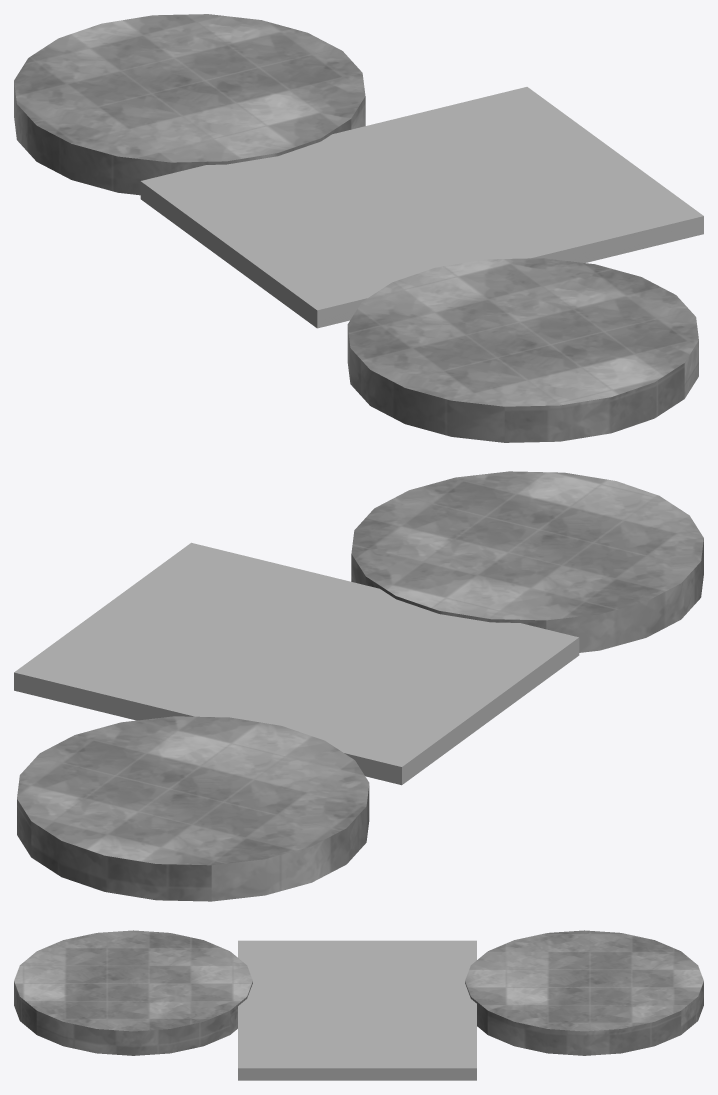
Rendered from Tokyo tower Bridge.fbx.
3 views of the same model, one above another, from view 1: azimuth 30°, elevation 25°; view 2: azimuth 150°, elevation 25°; view 3: azimuth 270°, elevation 25° (orthographic). The views are drawn at different scales.
Parts seen in each view (by area): view 1: bridge; view 2: bridge; view 3: bridge.
Boxes of the visible parts, x1,y1,x2,y2 form: bridge: [14, 14, 703, 442]; bridge: [14, 471, 703, 901]; bridge: [14, 930, 703, 1080].
Bounding box in the file's own units: 1485 × 125 × 3193.
2 materials, 1 textured.
